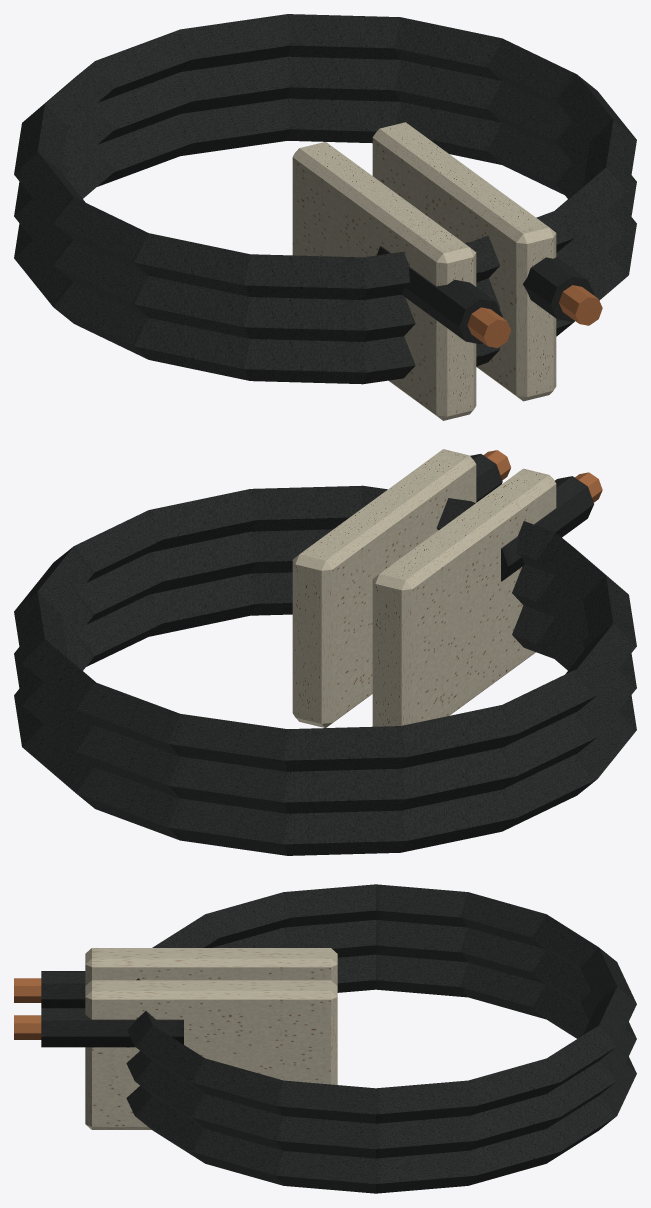
File: WireBundle.fbx
3 views of the same model, one above another, from view 1: azimuth 30°, elevation 25°; view 2: azimuth 150°, elevation 25°; view 3: azimuth 270°, elevation 25° (orthographic). The views are drawn at different scales.
Parts seen in each view (by area): view 1: WireBundle; view 2: WireBundle; view 3: WireBundle.
Boxes of the visible parts, box(x1,y1,x2,y2) form: WireBundle: box(14, 14, 636, 420); WireBundle: box(14, 449, 636, 855); WireBundle: box(14, 884, 636, 1193).
Size of the model in its own units: 47.6 by 14 by 56.8.
Materials: 1 (1 with a texture image).
